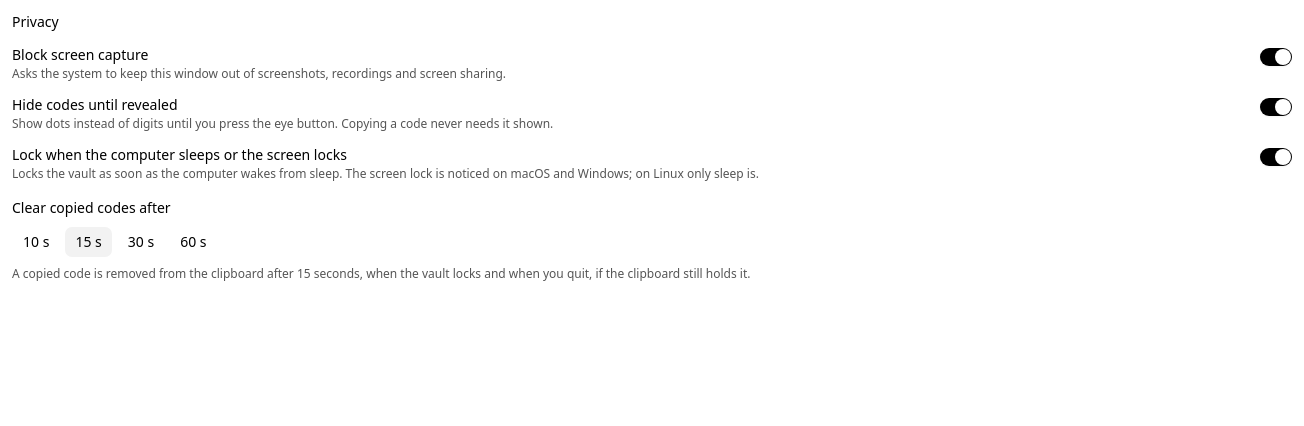
PrivacySettings capture protection confirmation › asks before turning protection off, with the safe choice focused
Click the switch named "Block screen capture" in the row of "Block screen capture": (1276, 57) x1=1260 y1=48 x2=1292 y2=66
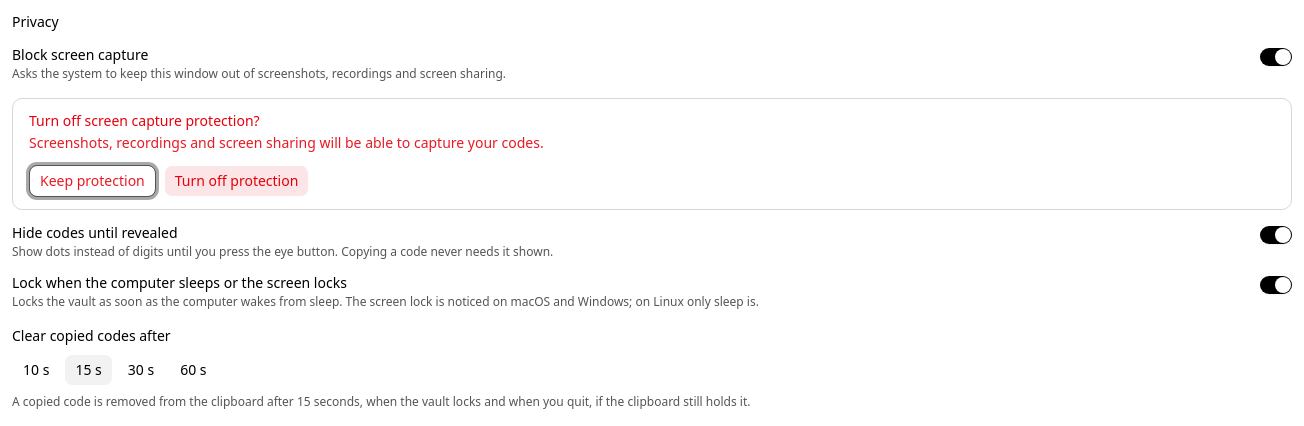
Now the text "Turn off screen capture protection?" is shown, box x1=29 y1=111 x2=260 y2=130
